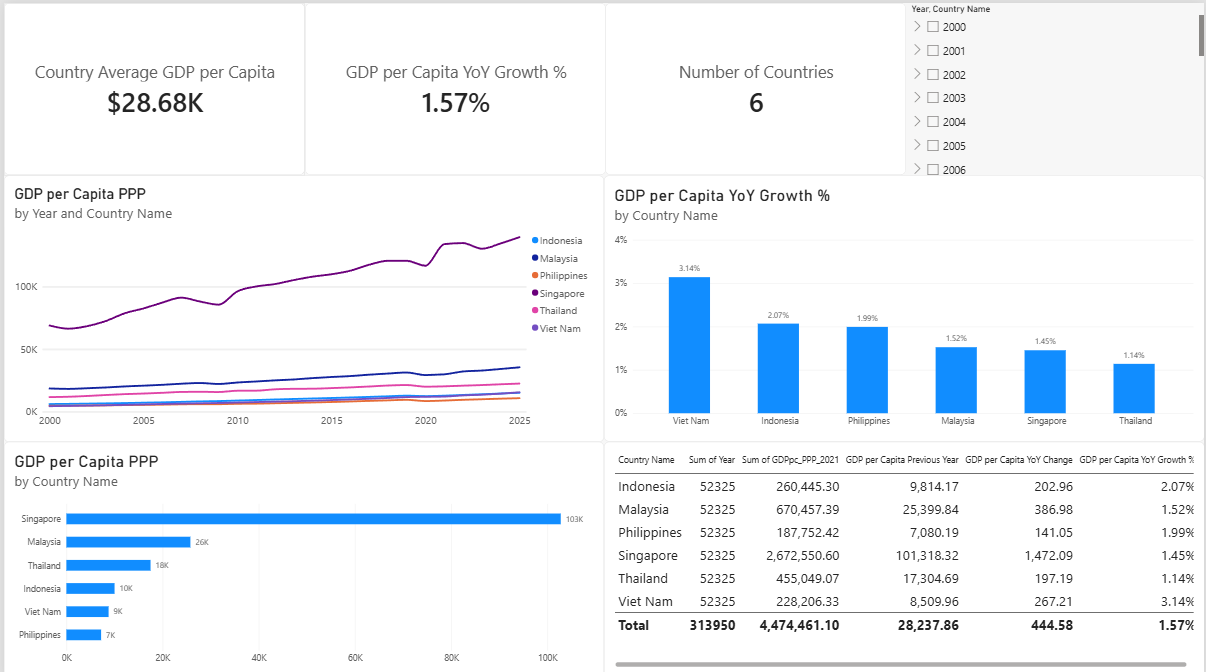

This screenshot's page, from the dashboard's own definition file:
{"tool":"powerbi","page":{"name":"Page 1","canvas":[1920,1080],"ordinal":0},"visuals":[{"type":"cardVisual","fields":{"Data":["FactGDP.Country Average GDP per Capita"]},"box":[0,0,481.2,275.6],"z":0},{"type":"cardVisual","fields":{"Data":["FactGDP.GDP per Capita YoY Growth %"]},"box":[481.2,0,481.2,275.6],"z":1000},{"type":"lineChart","fields":{"Category":["DimDate.Year"],"Series":["FactGDP.Country Name"],"Y":["FactGDP.GDP per Capita PPP"]},"box":[0,276,960,426],"z":1001},{"type":"clusteredBarChart","fields":{"Category":["FactGDP.Country Name"],"Y":["FactGDP.GDP per Capita PPP"]},"box":[0,702,960,378],"z":1002},{"type":"clusteredColumnChart","fields":{"Category":["FactGDP.Country Name"],"Y":["FactGDP.GDP per Capita YoY Growth %"]},"box":[960.5,276.7,960.5,425.6],"z":1003},{"type":"cardVisual","fields":{"Data":["FactGDP.Number of Countries"]},"box":[962.8,0,481.2,275.6],"z":1004},{"type":"tableEx","fields":{"Values":["FactGDP.Country Name","Sum(FactGDP.Year)","Sum(FactGDP.GDPpc_PPP_2021)","FactGDP.GDP per Capita Previous Year","FactGDP.GDP per Capita YoY Change","FactGDP.GDP per Capita YoY Growth %"]},"box":[960.5,702.3,960.5,378],"z":1005},{"type":"slicer","fields":{"Values":["DimDate.Year","FactGDP.Country Name"]},"box":[1444,0,476,276],"z":1006}]}

Visuals, with their boxes in screenshot pixels (x1, y1, x2, y2), scaled from the page's 1920x1080 canvas onto the 1206x672 screenshot:
cardVisual - FactGDP.Country Average GDP per Capita: [0, 0, 302, 171]
cardVisual - FactGDP.GDP per Capita YoY Growth %: [302, 0, 605, 171]
lineChart - DimDate.Year x FactGDP.Country Name: [0, 172, 603, 437]
clusteredBarChart - FactGDP.Country Name x FactGDP.GDP per Capita PPP: [0, 437, 603, 671]
clusteredColumnChart - FactGDP.Country Name x FactGDP.GDP per Capita YoY Growth %: [603, 172, 1205, 437]
cardVisual - FactGDP.Number of Countries: [605, 0, 907, 171]
tableEx - FactGDP.Country Name x Sum(FactGDP.Year): [603, 437, 1205, 671]
slicer - DimDate.Year x FactGDP.Country Name: [907, 0, 1205, 172]
